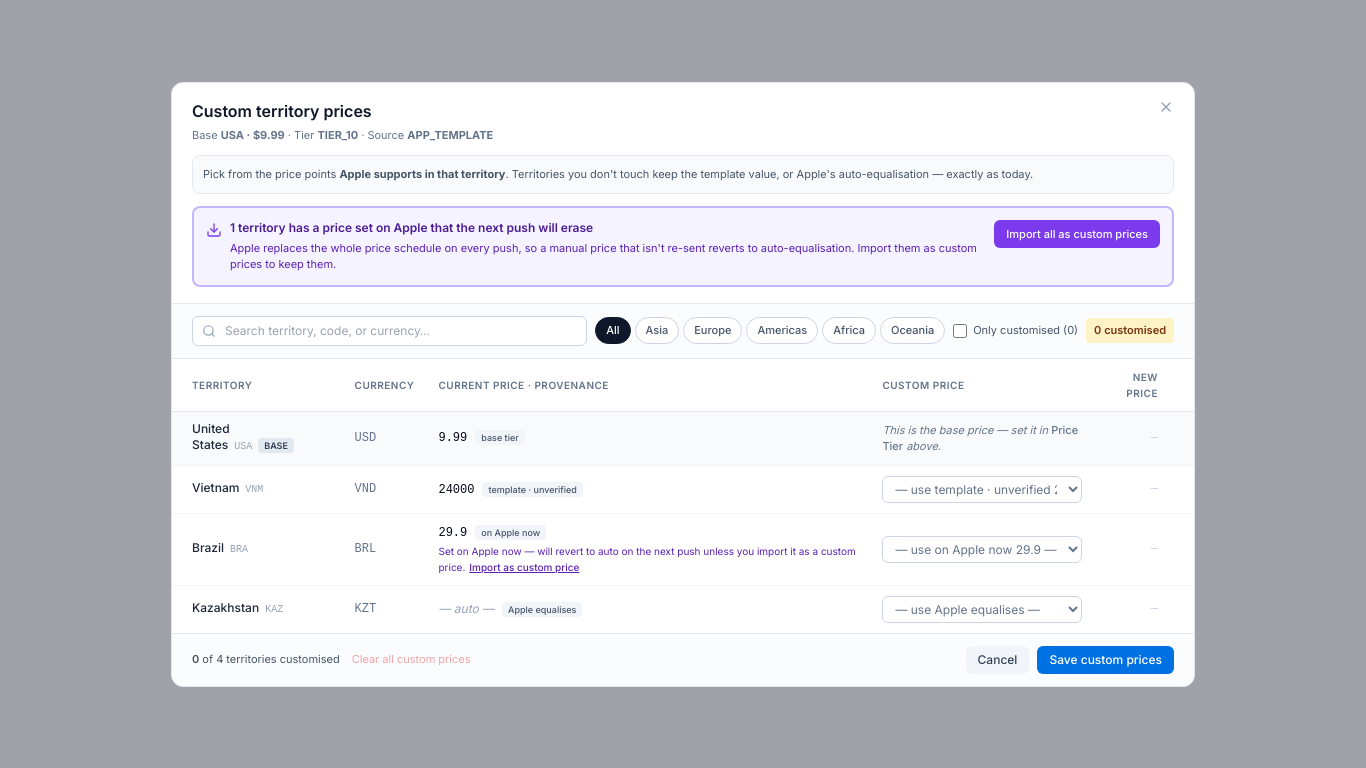
Test case: J-1 — no donor synced IAP › surfaces a per-territory no-donor response on the row
The image size is (1366, 768).
Expected: the text "Vietnam" is shown, [192,480,239,495]
Focus the dropdown named "Custom price for Vietnam". click: (982, 489)
box: [882,476,1082,502]
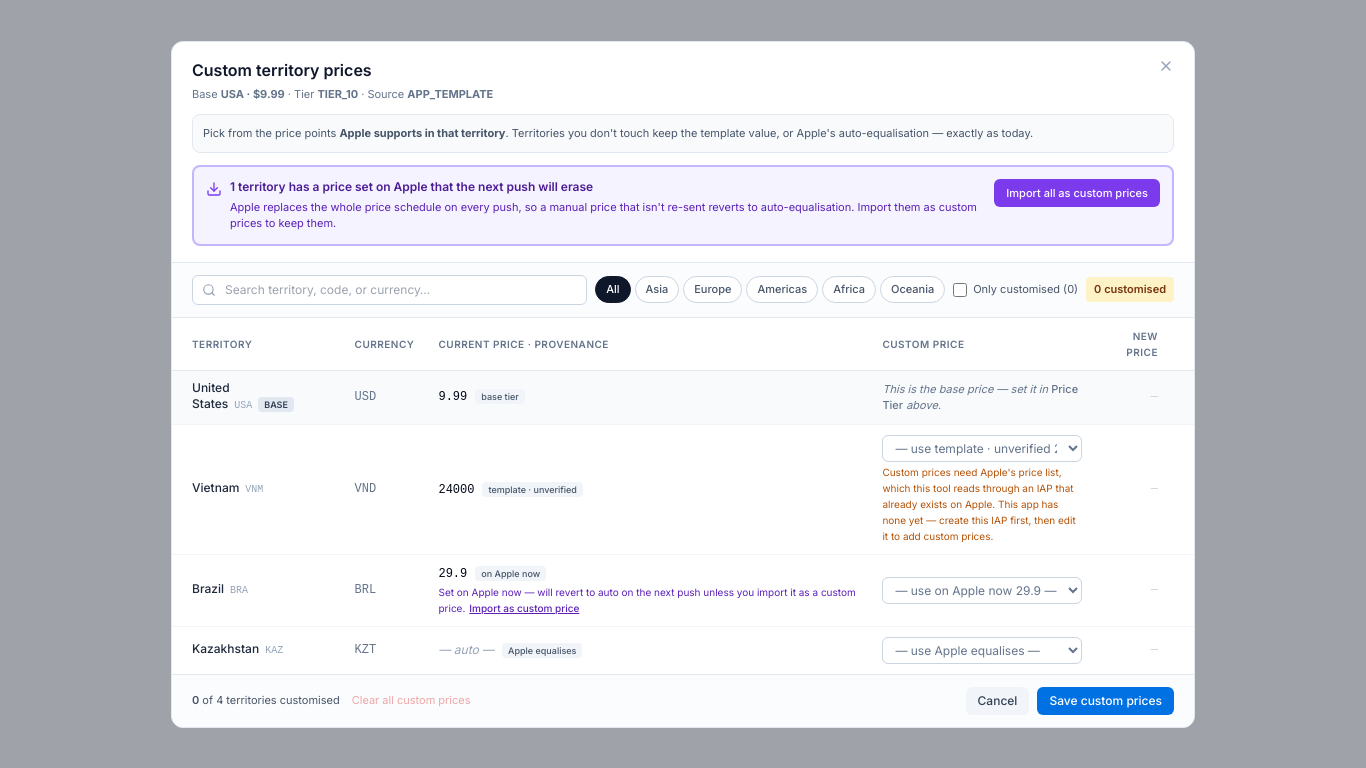
Now the row with test id "custom-price-row-VNM" shows "create this IAP first", box [882,466,1076,542]
